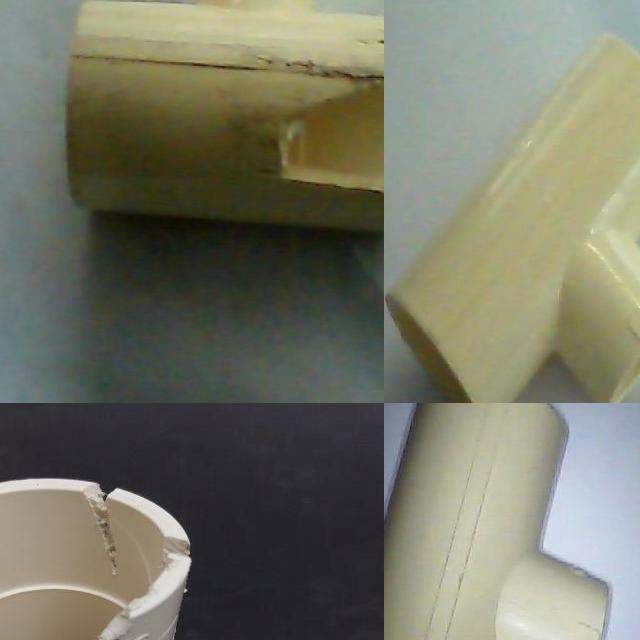Defective: (279, 85, 384, 193), (0, 575, 151, 640), (82, 487, 124, 559), (154, 528, 192, 569)
T Joint: (384, 34, 640, 403), (64, 0, 384, 239), (384, 403, 613, 640)
